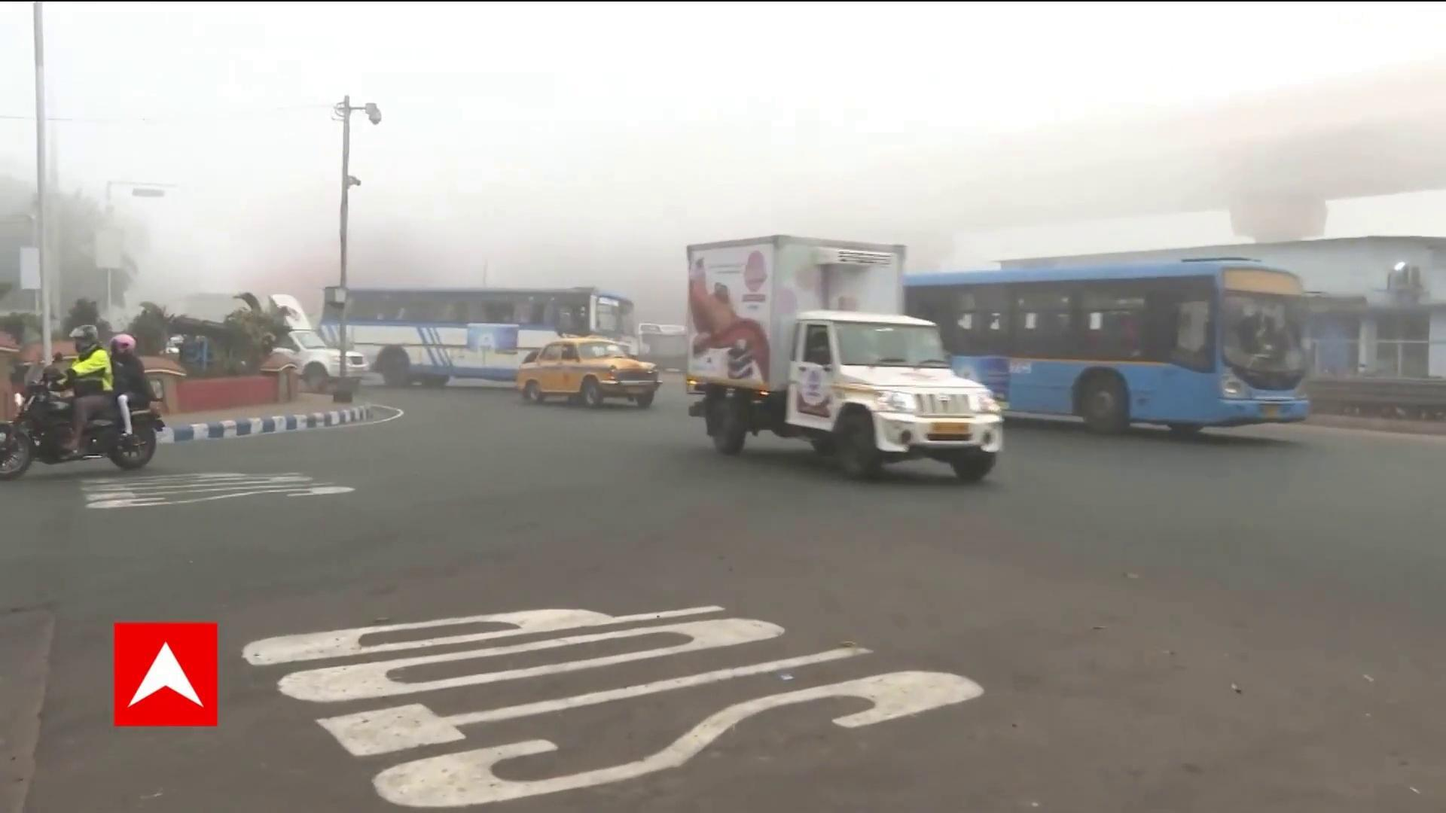Bike: (2, 329, 166, 473)
Bus: (897, 262, 1313, 451), (318, 284, 636, 390)
Car: (503, 333, 660, 414)
Truck: (678, 232, 1000, 493)
